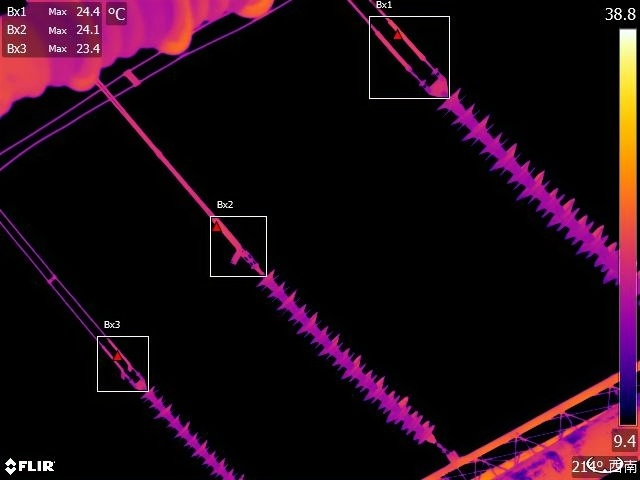insulator: (253, 263, 446, 445), (449, 87, 620, 289), (141, 385, 255, 480)
